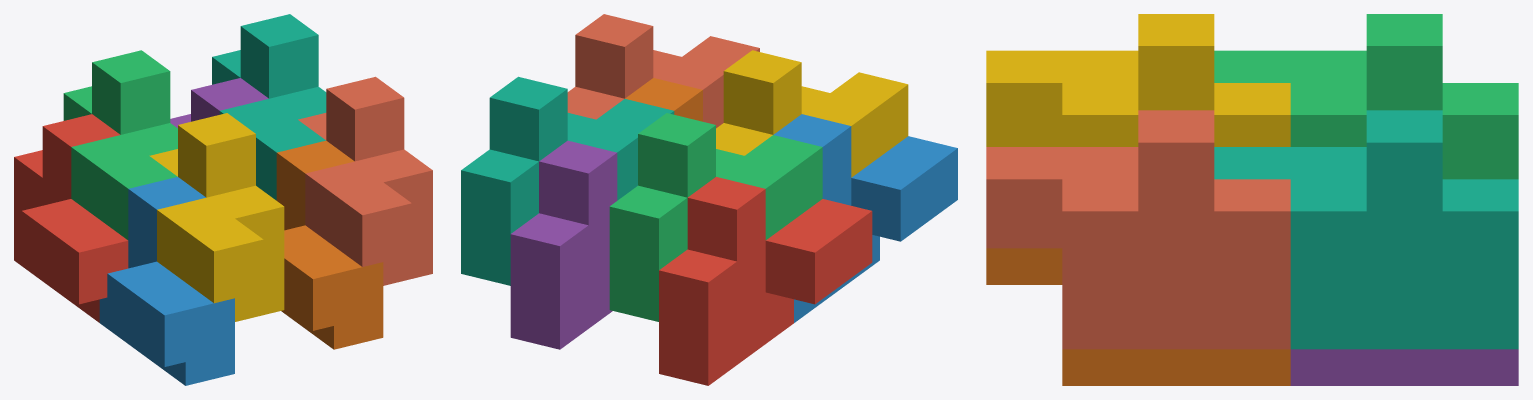
File: tiling.obj
3 renders of one model, left to right at view 1: azimuth 30°, elevation 25°; view 2: azimuth 150°, elevation 25°; view 3: azimuth 270°, elevation 25°, orthographic. The views are drawn at different scales.
Parts seen in each view (by area): view 1: copy_1_domain_8, copy_1_domain_4, copy_1_domain_2, copy_1_domain_1, copy_1_domain_3, copy_1_domain_6, copy_1_domain_7, copy_1_domain_5; view 2: copy_1_domain_1, copy_1_domain_3, copy_1_domain_7, copy_1_domain_5, copy_1_domain_4, copy_1_domain_2, copy_1_domain_8, copy_1_domain_6; view 3: copy_1_domain_8, copy_1_domain_7, copy_1_domain_4, copy_1_domain_3, copy_1_domain_6, copy_1_domain_5.
Boxes of the visible parts, bbox=[...] form: copy_1_domain_8: bbox=[298, 76, 432, 285]; copy_1_domain_4: bbox=[149, 113, 284, 321]; copy_1_domain_2: bbox=[99, 177, 234, 385]; copy_1_domain_1: bbox=[14, 114, 128, 322]; copy_1_domain_3: bbox=[63, 50, 177, 239]; copy_1_domain_6: bbox=[276, 140, 383, 349]; copy_1_domain_7: bbox=[212, 14, 326, 200]; copy_1_domain_5: bbox=[170, 78, 268, 128]; copy_1_domain_1: bbox=[659, 177, 872, 385]; copy_1_domain_3: bbox=[609, 113, 822, 321]; copy_1_domain_7: bbox=[461, 76, 674, 285]; copy_1_domain_5: bbox=[510, 140, 617, 349]; copy_1_domain_4: bbox=[716, 50, 908, 177]; copy_1_domain_2: bbox=[773, 114, 957, 322]; copy_1_domain_8: bbox=[567, 14, 759, 128]; copy_1_domain_6: bbox=[625, 78, 702, 121]; copy_1_domain_8: bbox=[986, 110, 1290, 349]; copy_1_domain_7: bbox=[1214, 110, 1518, 349]; copy_1_domain_4: bbox=[986, 14, 1290, 146]; copy_1_domain_3: bbox=[1214, 14, 1518, 179]; copy_1_domain_6: bbox=[986, 248, 1290, 385]; copy_1_domain_5: bbox=[1290, 349, 1518, 385].
Size of the model in its own units: 6 by 4 by 7.
